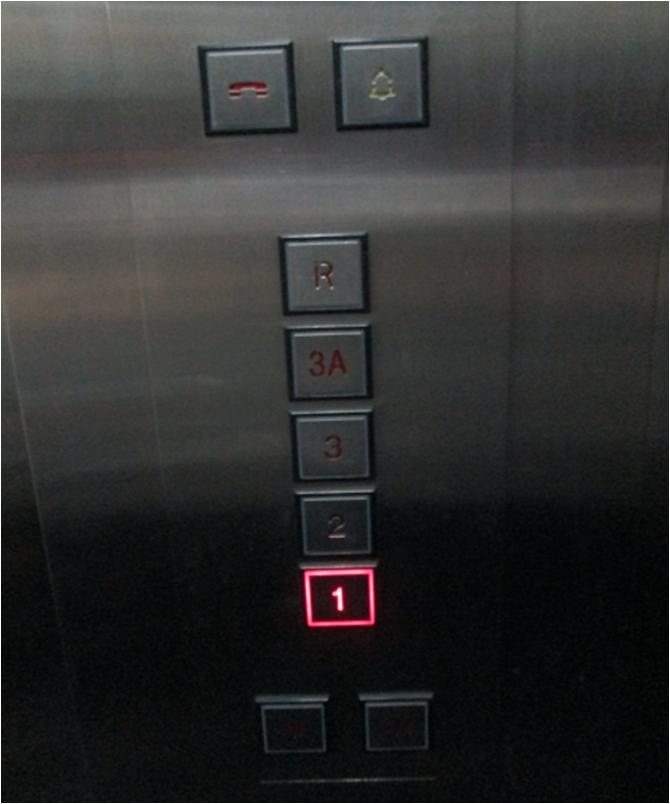1: (299, 562, 380, 632)
2: (296, 490, 377, 560)
3: (287, 408, 376, 484)
3A: (281, 321, 376, 405)
R: (275, 231, 370, 315)
alarm: (326, 33, 437, 132)
blur: (355, 690, 436, 760), (253, 690, 334, 760)
call: (192, 40, 303, 139)
